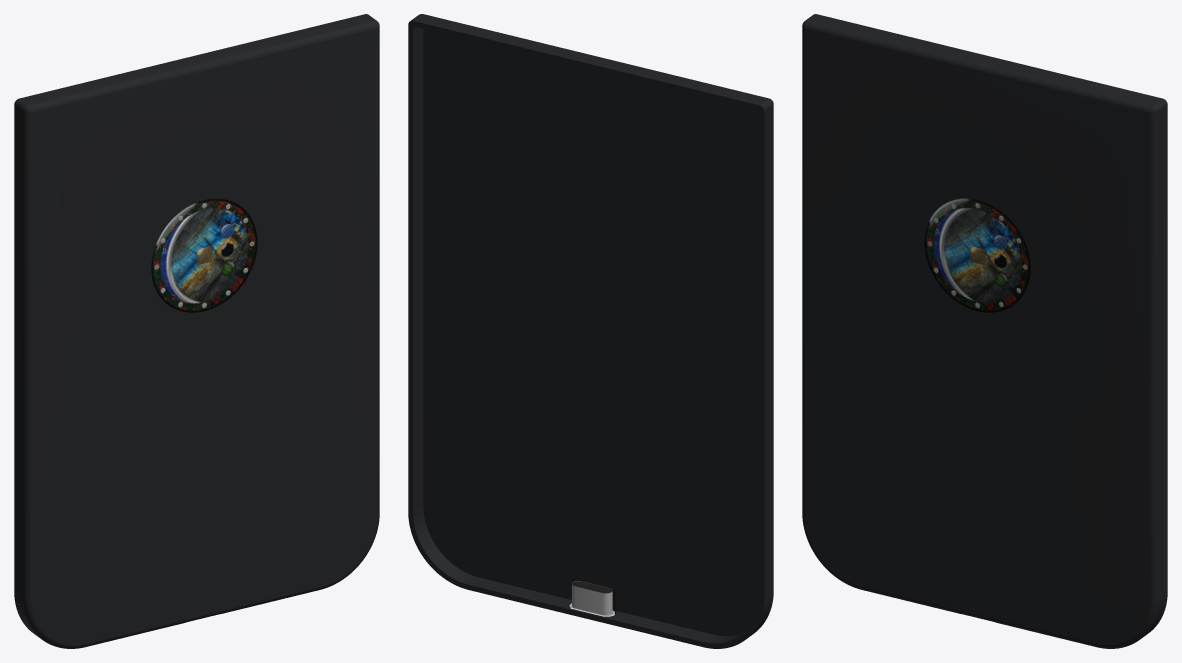
Rendered from black-moldavite-shield.glb.
The picture shows the model from 3 angles, left to right: view 1: azimuth 30°, elevation 25°; view 2: azimuth 150°, elevation 25°; view 3: azimuth 330°, elevation 25°; orthographic projection.
Parts seen in each view (by area): view 1: shield housing, shield window_inserts, inlay; view 2: shield housing, shield window_inserts, shield USB-C; view 3: shield housing, shield window_inserts, inlay.
Boxes of the visible parts, left/top/right/bottom form: shield housing: left=14, top=14, right=379, bottom=648; shield window_inserts: left=89, top=131, right=319, bottom=643; inlay: left=151, top=198, right=257, bottom=312; shield housing: left=408, top=14, right=773, bottom=648; shield window_inserts: left=481, top=122, right=711, bottom=638; shield USB-C: left=569, top=581, right=614, bottom=616; shield housing: left=802, top=14, right=1167, bottom=648; shield window_inserts: left=862, top=131, right=1092, bottom=643; inlay: left=924, top=198, right=1030, bottom=312.
Bounding box in the file's own units: 0.071 × 0.1059 × 0.00422.
Materials: 5 (1 with a texture image).
